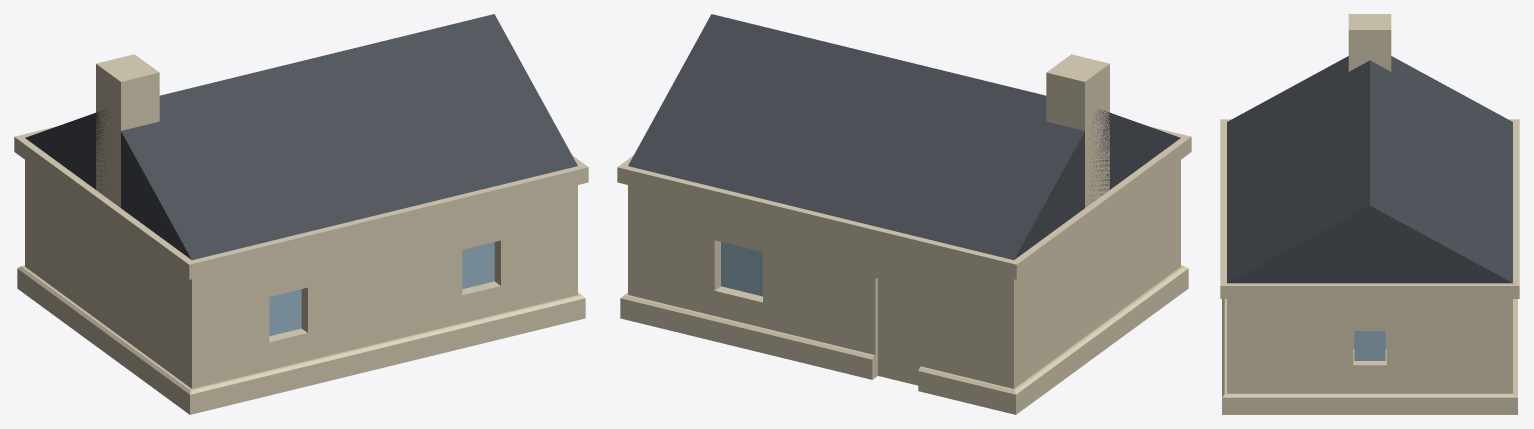
3 renders of one model, left to right at view 1: azimuth 30°, elevation 25°; view 2: azimuth 150°, elevation 25°; view 3: azimuth 270°, elevation 25°, orthographic. The views are drawn at different scales.
Visible parts, largest first — view 1: roof_slate, body_plaster, trim_plaster, glass_glass (×2); view 2: roof_slate, body_plaster, trim_plaster, glass_glass; view 3: roof_slate, body_plaster, trim_plaster, glass_glass.
Boxes of the visible parts, x1,y1,x2,y2 form: roof_slate: (25, 14, 577, 260); body_plaster: (25, 54, 577, 388); trim_plaster: (14, 126, 588, 414); glass_glass (×2): (269, 242, 494, 336); roof_slate: (628, 14, 1180, 260); body_plaster: (628, 54, 1180, 388); trim_plaster: (617, 126, 1191, 414); glass_glass: (721, 242, 762, 296); roof_slate: (1227, 56, 1512, 283); body_plaster: (1227, 14, 1512, 393); trim_plaster: (1220, 119, 1519, 414); glass_glass: (1354, 331, 1385, 360).
Size of what is drawn, in the model's own units: 8.28 by 5.5 by 6.28.
